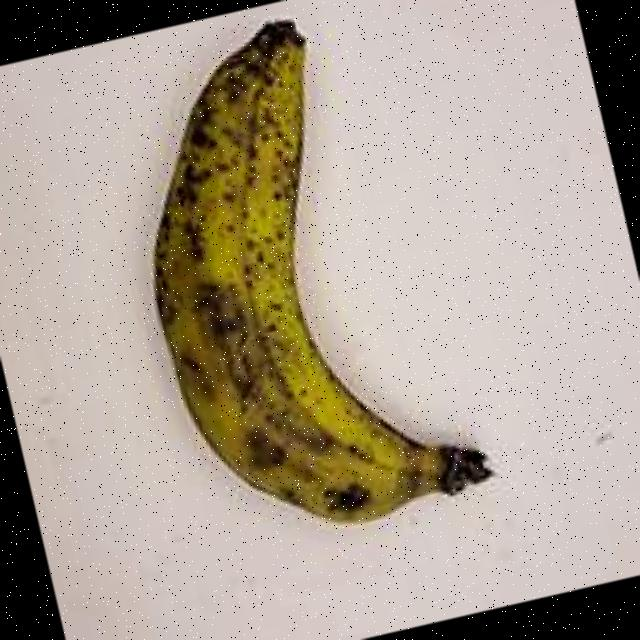Overripe: (14, 0, 544, 610)
